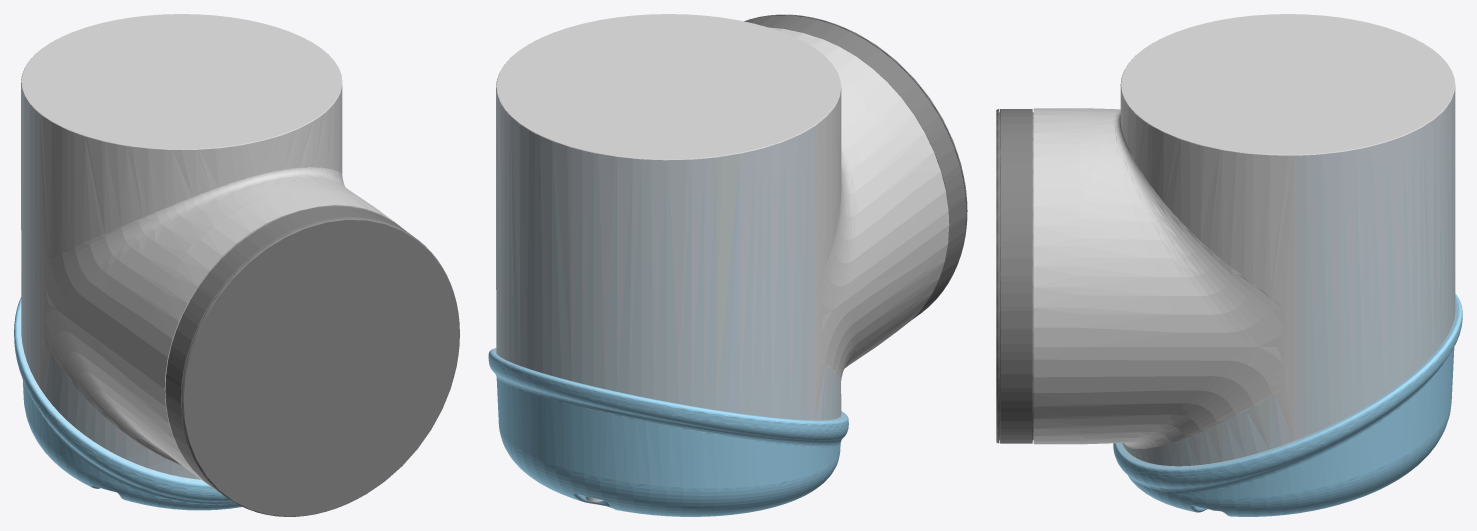
Rendered from UR16eLink4.dae.
3 views of the same model, side by side, from view 1: azimuth 30°, elevation 25°; view 2: azimuth 150°, elevation 25°; view 3: azimuth 270°, elevation 25° (orthographic). The views are drawn at different scales.
Parts seen in each view (by area): view 1: UR16eLink4; view 2: UR16eLink4; view 3: UR16eLink4.
Boxes of the visible parts, x1,y1,x2,y2 form: UR16eLink4: (14,14,459,516); UR16eLink4: (488,14,967,516); UR16eLink4: (996,14,1462,516).
Size of the model in its own units: 0.094 by 0.1254 by 0.114.
